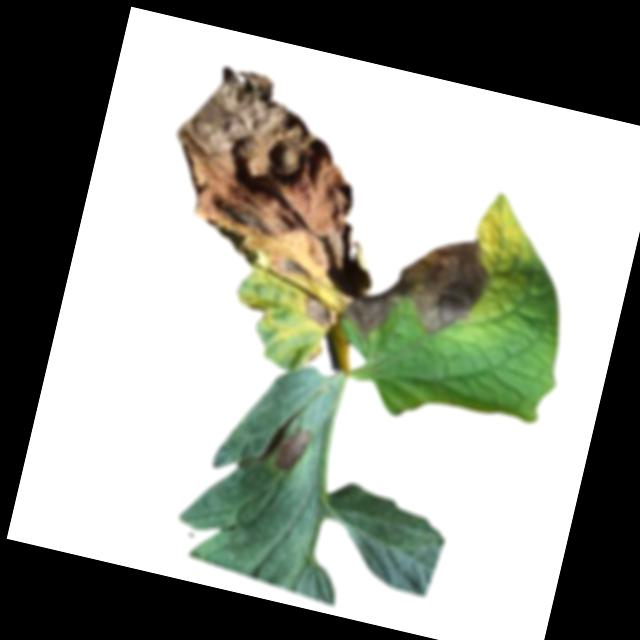Early_blight: (148, 58, 379, 289), (342, 216, 497, 359), (274, 423, 311, 474), (299, 296, 335, 331), (305, 344, 323, 365)
